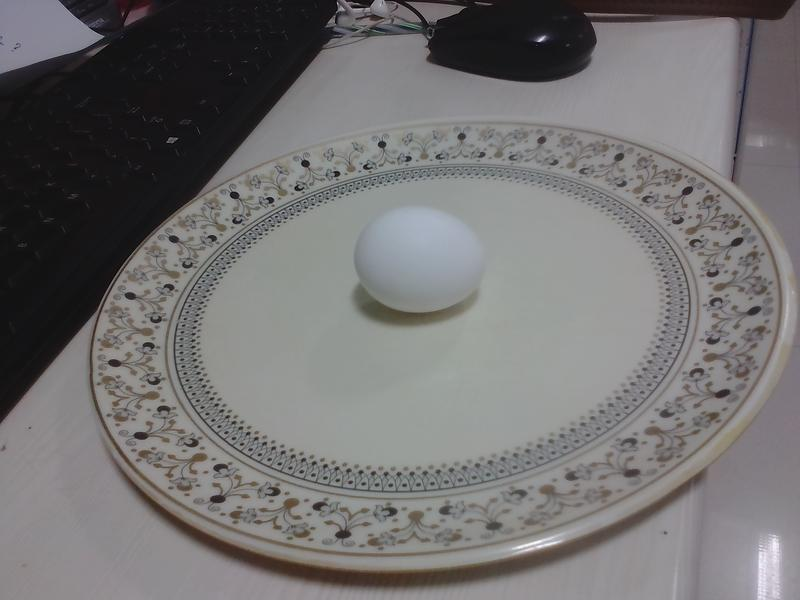egg: (352, 210, 489, 312)
